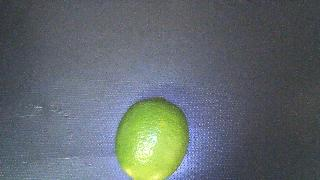EXPORTACION: (115, 96, 189, 180)
